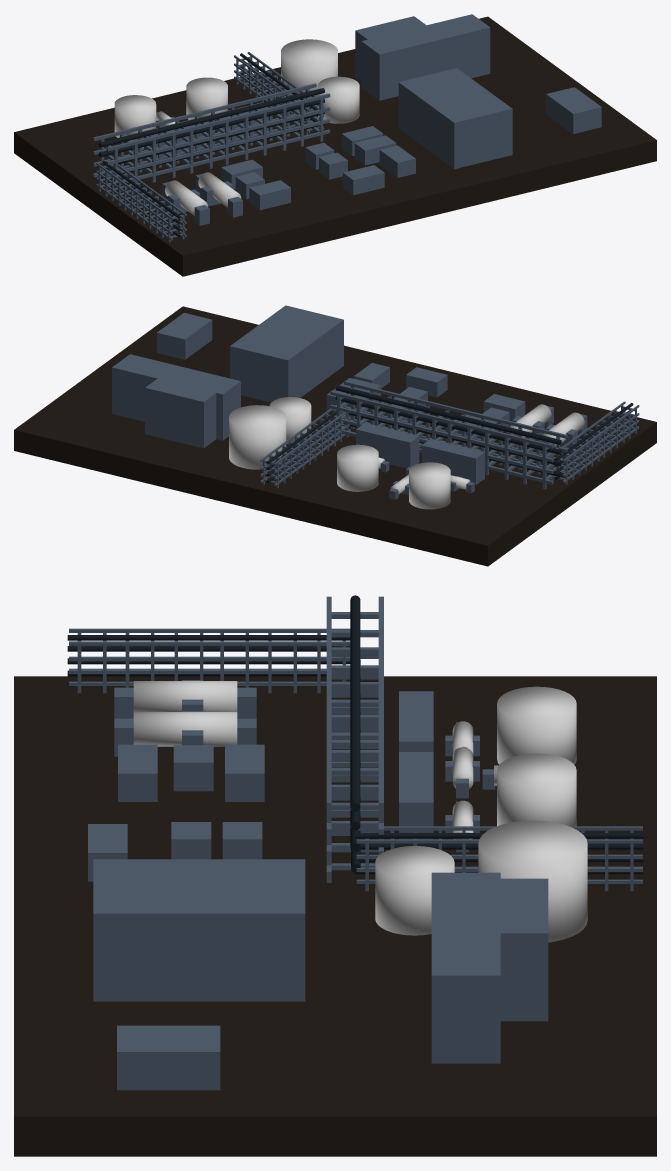
Rendered from Effluent Treatment.fbx.
3 views of the same model, one above another, from view 1: azimuth 30°, elevation 25°; view 2: azimuth 150°, elevation 25°; view 3: azimuth 270°, elevation 25° (orthographic). The views are drawn at different scales.
Visible parts, largest first — view 1: EffluentTreatment; view 2: EffluentTreatment; view 3: EffluentTreatment.
Part boxes in pixels (x1=…): EffluentTreatment: x1=14, y1=14, x2=656, y2=276; EffluentTreatment: x1=14, y1=305, x2=656, y2=566; EffluentTreatment: x1=14, y1=595, x2=656, y2=1156.
Bounding box in the file's own units: 99.49 × 13.49 × 61.39.
